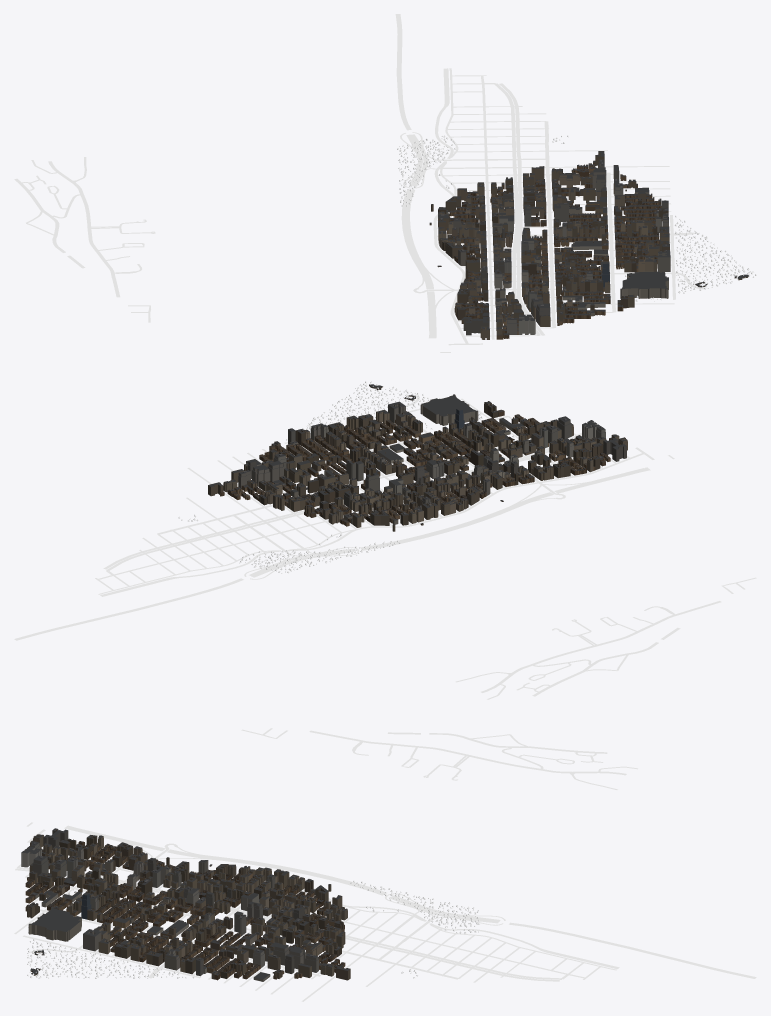
File: manhattan_-01_+00.glb
The picture shows the model from 3 angles, top to bottom: view 1: azimuth 30°, elevation 25°; view 2: azimuth 150°, elevation 25°; view 3: azimuth 270°, elevation 25°; orthographic projection. The views are drawn at different scales.
Parts seen in each view (by area): view 1: BLD_midrise_-01_+00, ROAD_-01_+00, BLD_lowrise_-01_+00, TREE_-01_+00; view 2: BLD_midrise_-01_+00, ROAD_-01_+00, BLD_lowrise_-01_+00, TREE_-01_+00; view 3: BLD_midrise_-01_+00, ROAD_-01_+00, BLD_lowrise_-01_+00, TREE_-01_+00.
Part boxes in pixels (left/top/right/bottom): BLD_midrise_-01_+00: left=431, top=151, right=670, bottom=339; ROAD_-01_+00: left=14, top=14, right=703, bottom=352; BLD_lowrise_-01_+00: left=429, top=160, right=748, bottom=339; TREE_-01_+00: left=397, top=135, right=756, bottom=302; BLD_midrise_-01_+00: left=208, top=394, right=627, bottom=531; ROAD_-01_+00: left=14, top=395, right=756, bottom=699; BLD_lowrise_-01_+00: left=220, top=384, right=611, bottom=526; TREE_-01_+00: left=178, top=381, right=514, bottom=573; BLD_midrise_-01_+00: left=21, top=828, right=350, bottom=980; ROAD_-01_+00: left=14, top=728, right=756, bottom=1001; BLD_lowrise_-01_+00: left=25, top=841, right=345, bottom=981; TREE_-01_+00: left=27, top=880, right=479, bottom=978.
Bounding box in the file's own units: 2870 × 115 × 3290.
